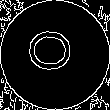O_E: (28, 32, 82, 78)
